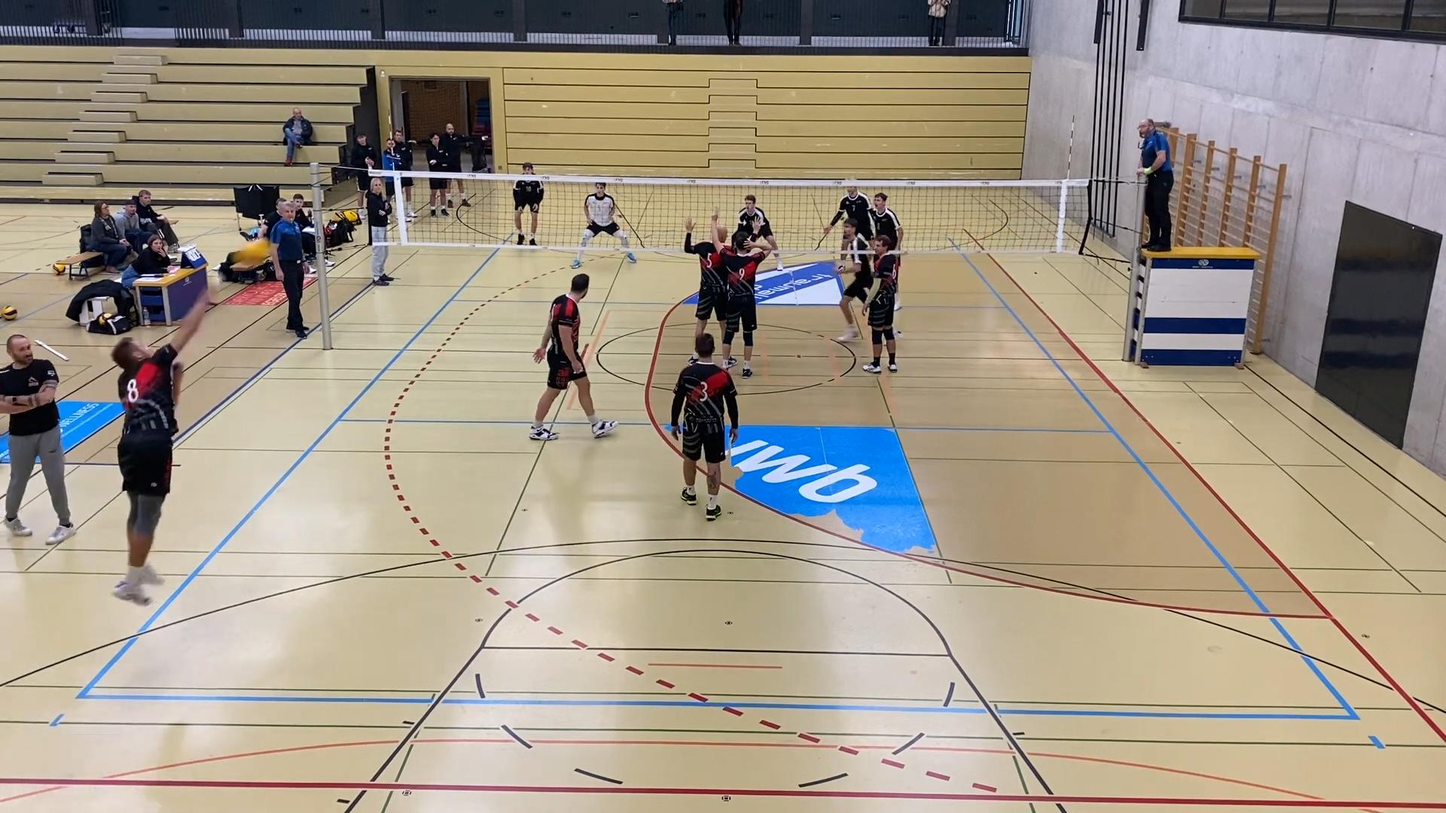battuta: (111, 281, 222, 606)
